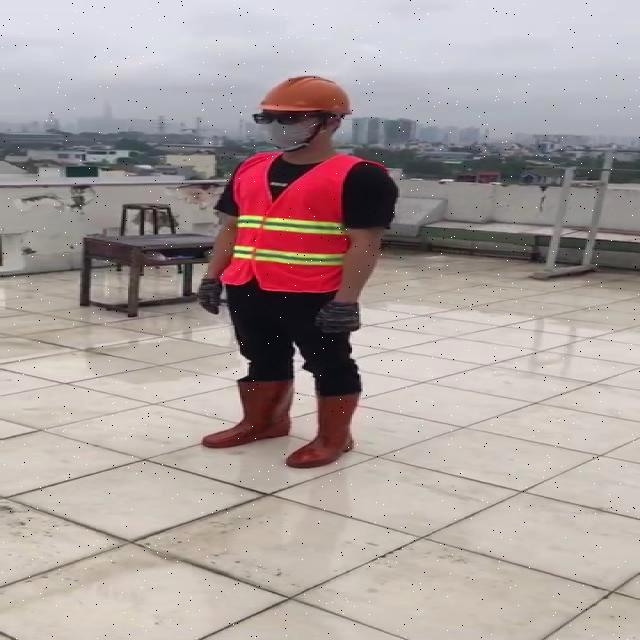Hard_hat: (247, 69, 353, 126)
Vest: (230, 147, 352, 291)
